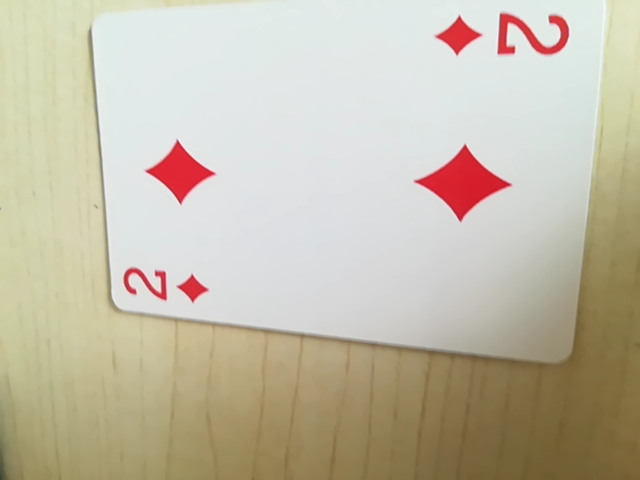fk 2: (424, 6, 573, 67), (119, 257, 218, 312)
